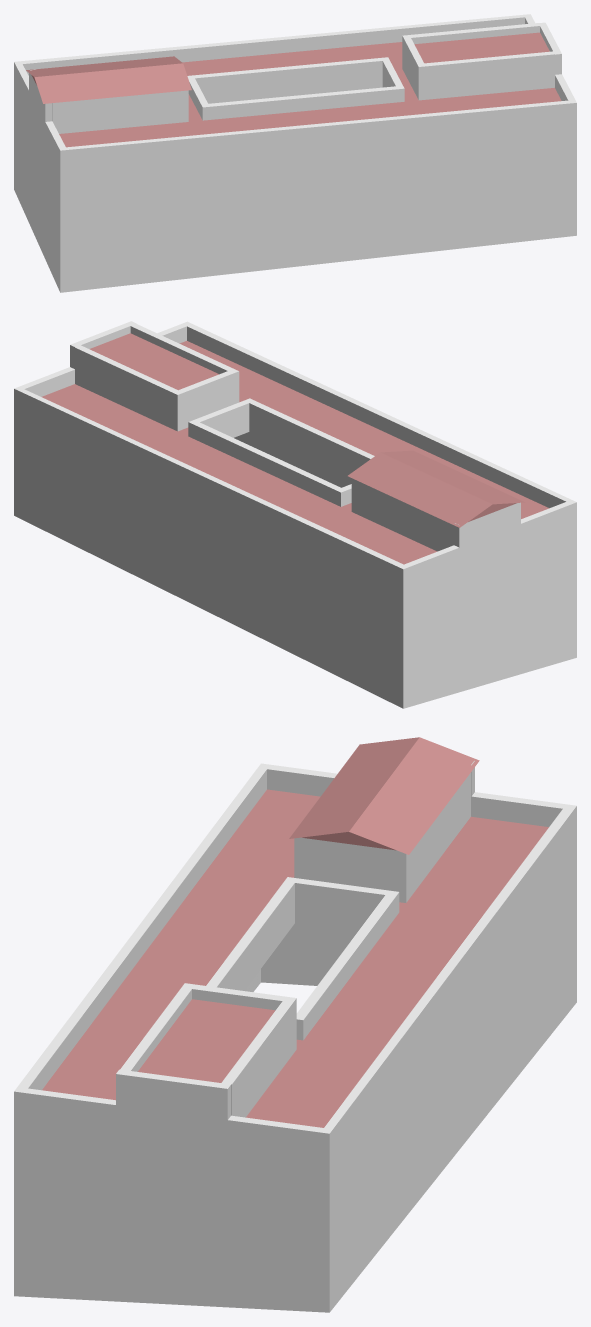
File: LOD_Block_0_19.glb
The picture shows the model from 3 angles, top to bottom: view 1: azimuth 30°, elevation 25°; view 2: azimuth 150°, elevation 25°; view 3: azimuth 270°, elevation 25°; orthographic projection. The views are drawn at different scales.
Parts seen in each view (by area): view 1: mesh_CityEngineMaterial_288; view 2: mesh_CityEngineMaterial_288; view 3: mesh_CityEngineMaterial_288.
Boxes of the visible parts, <box> form: mesh_CityEngineMaterial_288: <box>14,14,576,292</box>; mesh_CityEngineMaterial_288: <box>14,321,576,708</box>; mesh_CityEngineMaterial_288: <box>14,737,576,1312</box>.
Size of the model in its own units: 39.23 by 13.06 by 25.2.
